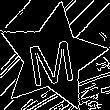M_N: (26, 29, 79, 87)
